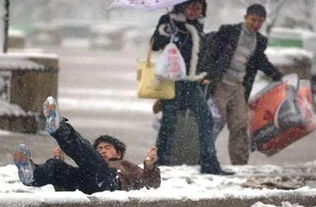fall: (1, 92, 170, 200)
